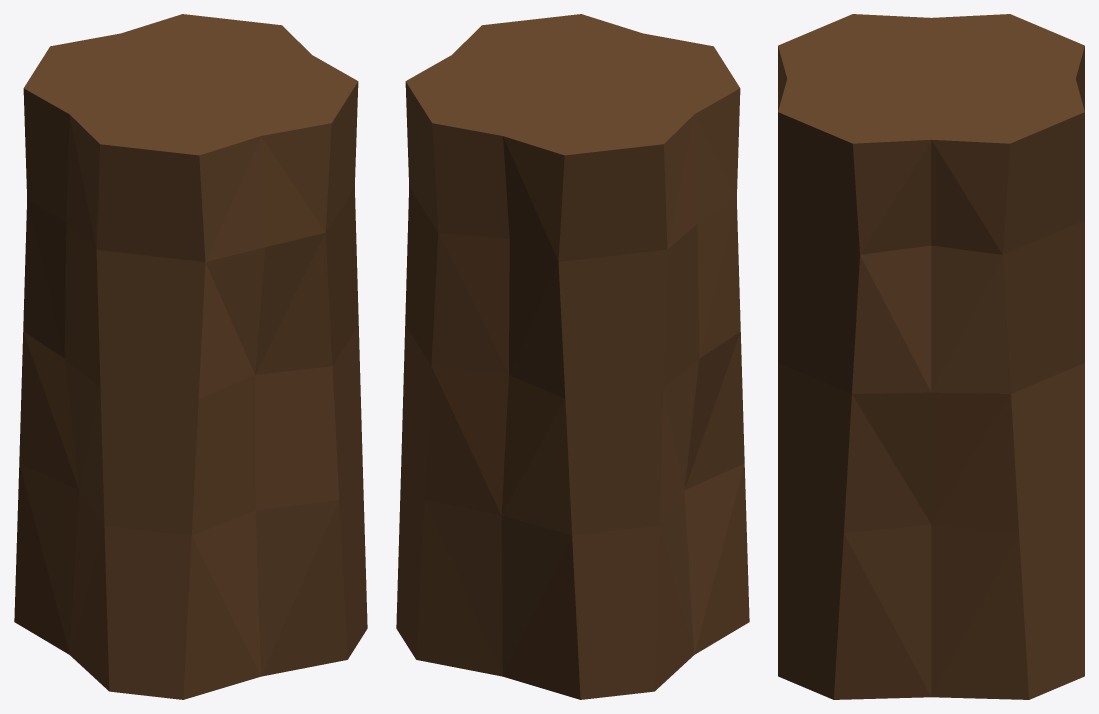
File: Section_2.glb
3 views of the same model, side by side, from view 1: azimuth 30°, elevation 25°; view 2: azimuth 150°, elevation 25°; view 3: azimuth 270°, elevation 25° (orthographic). The views are drawn at different scales.
Parts seen in each view (by area): view 1: Section; view 2: Section; view 3: Section.
Boxes of the visible parts, x1=… form: Section: x1=14, y1=14, x2=367, y2=699; Section: x1=396, y1=14, x2=749, y2=699; Section: x1=778, y1=14, x2=1084, y2=699.
Size of the model in its own units: 2 by 4 by 2.
